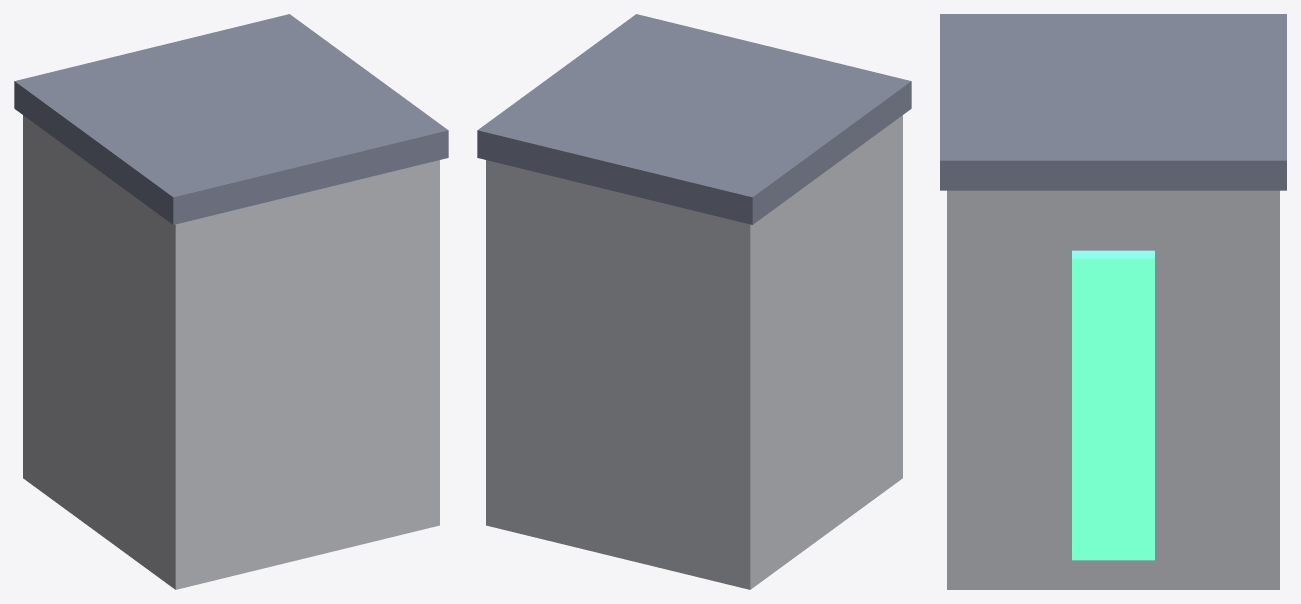
Rendered from bateria.glb.
3 renders of one model, left to right at view 1: azimuth 30°, elevation 25°; view 2: azimuth 150°, elevation 25°; view 3: azimuth 270°, elevation 25°, orthographic. The views are drawn at different scales.
Parts seen in each view (by area): view 1: bateria; view 2: bateria; view 3: bateria, carga.
Boxes of the visible parts, x1=… form: bateria: x1=14, y1=14, x2=448, y2=589; bateria: x1=477, y1=14, x2=911, y2=589; bateria: x1=940, y1=14, x2=1286, y2=589; carga: x1=1072, y1=250, x2=1154, y2=560.
Bounding box in the file's own units: 1.29 × 1.72 × 1.25.
